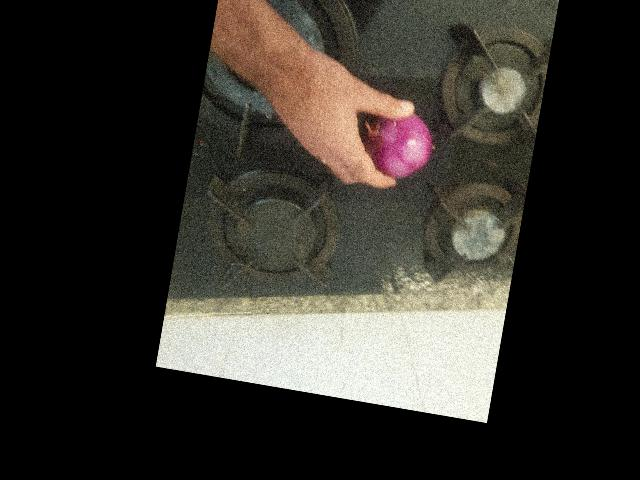onion: (394, 241, 473, 320)
